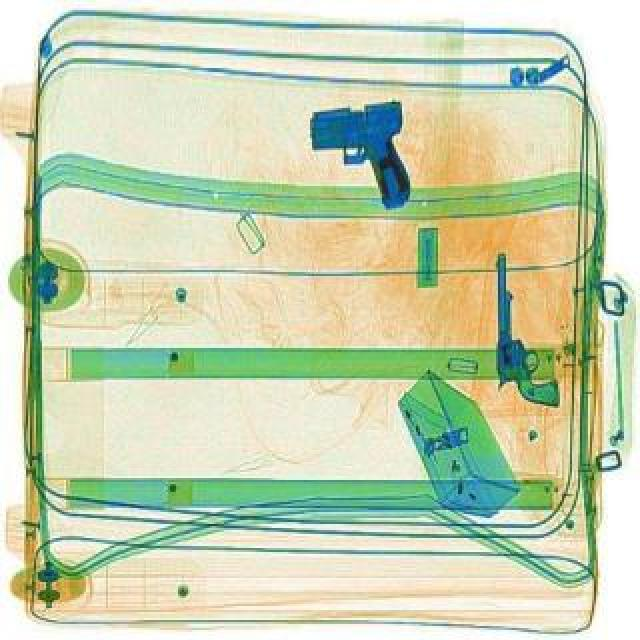gun: (300, 82, 434, 226), (486, 248, 560, 408)
